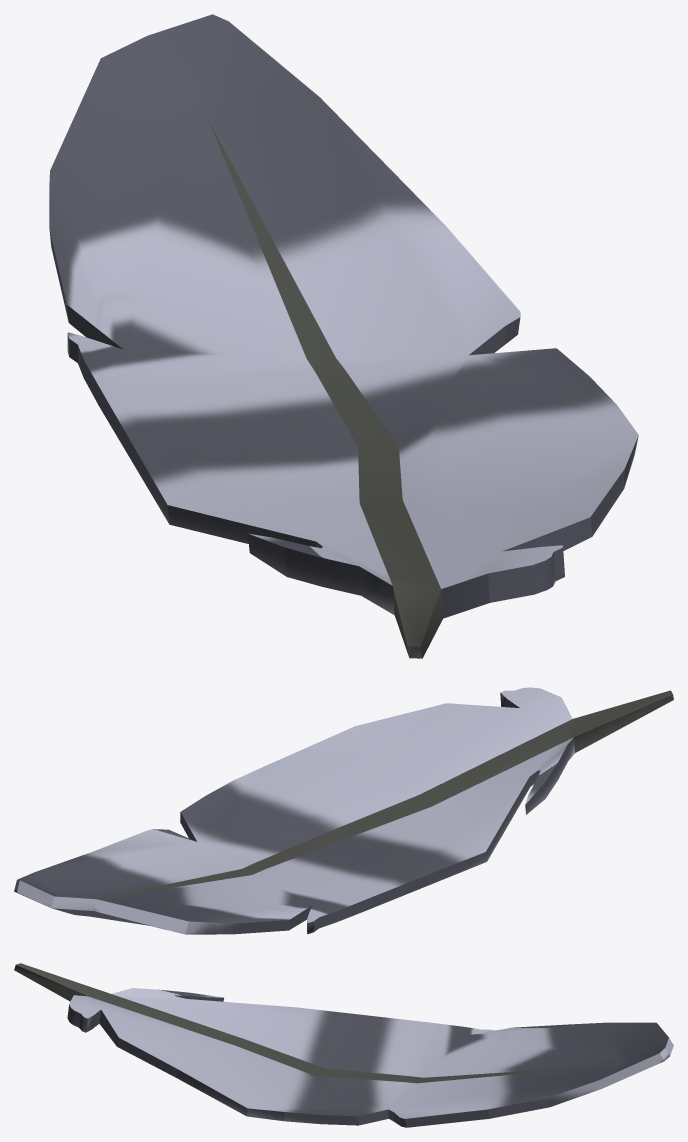
Rendered from SM_Accesory_Feather04.fbx.
3 renders of one model, top to bottom at view 1: azimuth 30°, elevation 25°; view 2: azimuth 150°, elevation 25°; view 3: azimuth 270°, elevation 25°, orthographic. The views are drawn at different scales.
Parts seen in each view (by area): view 1: SM_Accesory_Feather04; view 2: SM_Accesory_Feather04; view 3: SM_Accesory_Feather04.
Part boxes in pixels (left/top/right/bottom): SM_Accesory_Feather04: left=49, top=14, right=638, bottom=658; SM_Accesory_Feather04: left=14, top=687, right=673, bottom=934; SM_Accesory_Feather04: left=14, top=963, right=673, bottom=1127.
Size of the model in its own units: 0.0218 by 0.0491 by 0.00636.
